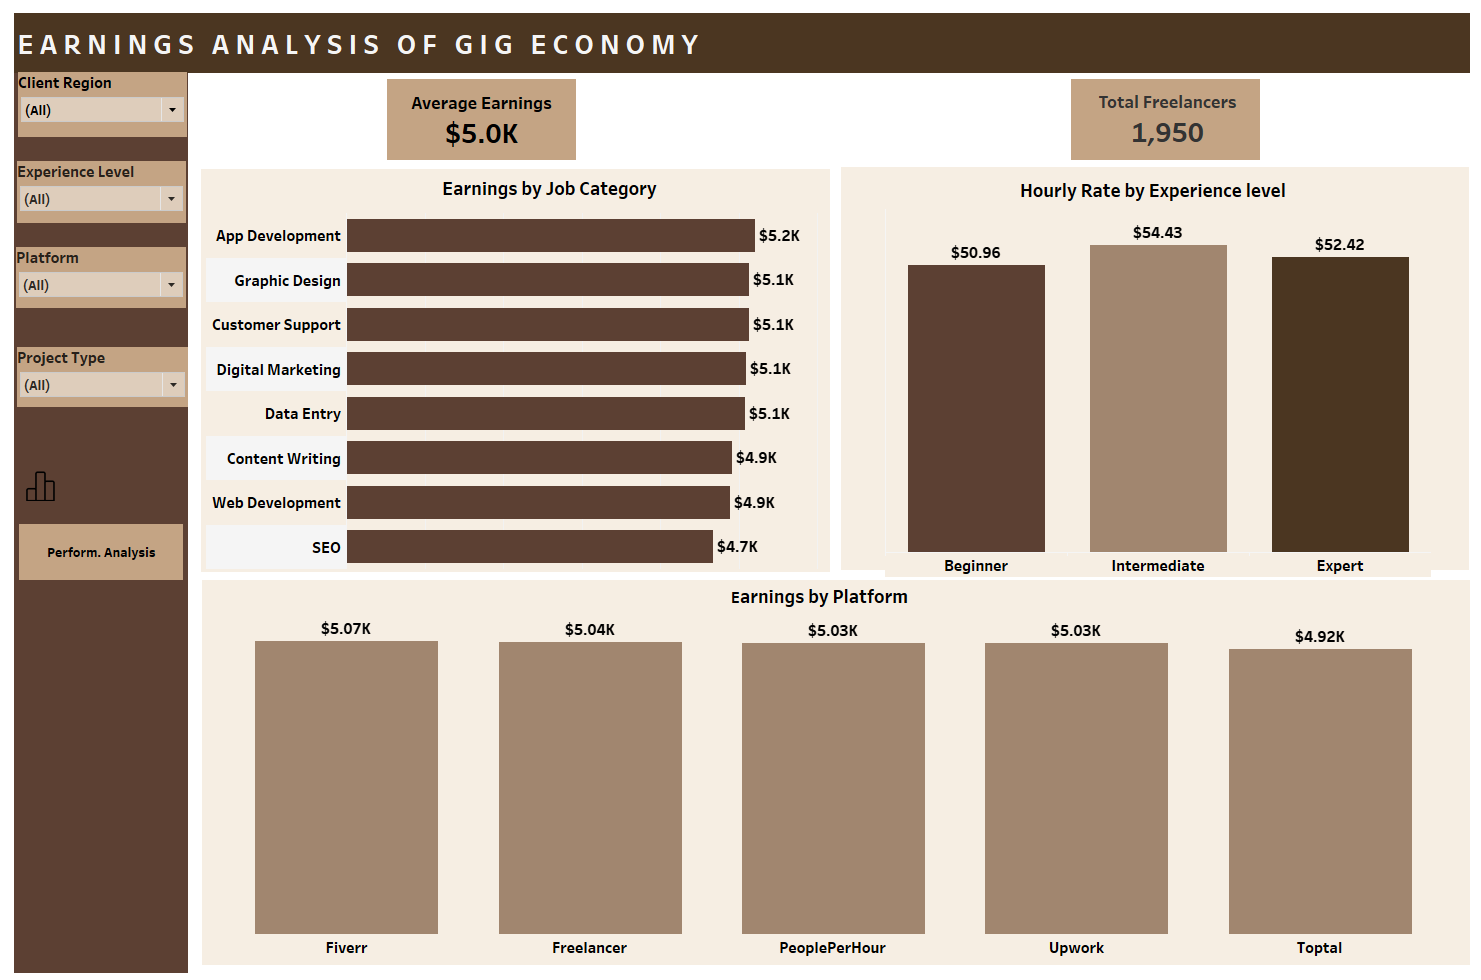

What the dashboard file says about the page in this screenshot:
{"tool":"tableau","page":{"name":"Dashboard 1","canvas":[1466,950],"ordinal":0},"visuals":[{"type":"filter","title":"Earnings Vs Job Category","param":"[federated.0jovm3l1ba17ix19hiupi0gwjwfu].[none:Client_Region:nk]","box":[1,61.8,169,65.2]},{"type":"blank","box":[370,69,189,81]},{"type":"blank","box":[1054,69,189,81]},{"type":"worksheet","title":"Freelancers KPI","mark":"Automatic","box":[1050,76,201,70]},{"type":"worksheet","title":"Earnings KPI","mark":"Automatic","box":[374,77,181,67]},{"type":"filter","title":"Earnings KPI","param":"[federated.0jovm3l1ba17ix19hiupi0gwjwfu].[none:Experience_Level:nk]","box":[0,151.1,169,61.8]},{"type":"text","box":[373,160,319,35]},{"type":"text","box":[963,162,346,36]},{"type":"worksheet","title":"Hourly Rate Vs Experience Level","mark":"Automatic","rows":["Hourly_Rate"],"cols":["Experience_Level"],"box":[868,199,546,368]},{"type":"worksheet","title":"Earnings Vs Job Category","mark":"Bar","rows":["Job_Category"],"cols":["Earnings_USD"],"box":[189,203,618,356]},{"type":"filter","title":"Earnings KPI","param":"[federated.0jovm3l1ba17ix19hiupi0gwjwfu].[none:Project_Type:nk]","box":[0,336.5,171,60.7]},{"type":"image","param":"Image/column-chart.png","box":[8,461.3,30,43.5]},{"type":"dashboard-object","box":[2,513.9,164,56.1]},{"type":"text","box":[630,568,345,36]},{"type":"worksheet","title":"Earnings by platform","mark":"Automatic","rows":["Earnings_USD"],"cols":["Platform"],"box":[208,595,1217,353]}]}

Visuals, with their boxes in screenshot pixels (x1, y1, x2, y2), scaled from the page's 1466x950 canvas onto the 1481x980 screenshot:
"Earnings Vs Job Category" filter: rect(1, 64, 172, 131)
blank: rect(374, 71, 565, 155)
blank: rect(1065, 71, 1256, 155)
"Freelancers KPI" worksheet: rect(1061, 78, 1264, 151)
"Earnings KPI" worksheet: rect(378, 79, 561, 149)
"Earnings KPI" filter: rect(0, 156, 171, 220)
text: rect(377, 165, 699, 201)
text: rect(973, 167, 1322, 204)
"Hourly Rate Vs Experience Level" worksheet: rect(877, 205, 1428, 585)
"Earnings Vs Job Category" worksheet (Bar marks): rect(191, 209, 815, 577)
"Earnings KPI" filter: rect(0, 347, 173, 410)
image: rect(8, 476, 38, 521)
dashboard-object: rect(2, 530, 168, 588)
text: rect(636, 586, 985, 623)
"Earnings by platform" worksheet: rect(210, 614, 1440, 978)
